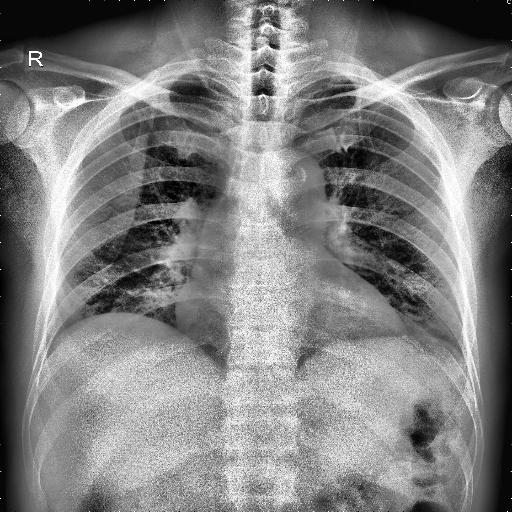0- Aortic enlargement: (258, 148, 328, 230), (268, 150, 326, 222)
3- Cardiomegaly: (171, 286, 408, 350), (172, 296, 411, 358), (176, 288, 410, 350)
